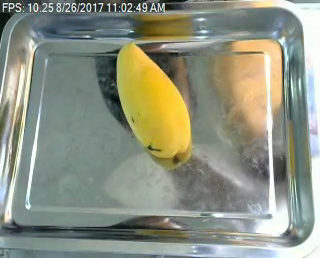Mango: (107, 37, 199, 163)
